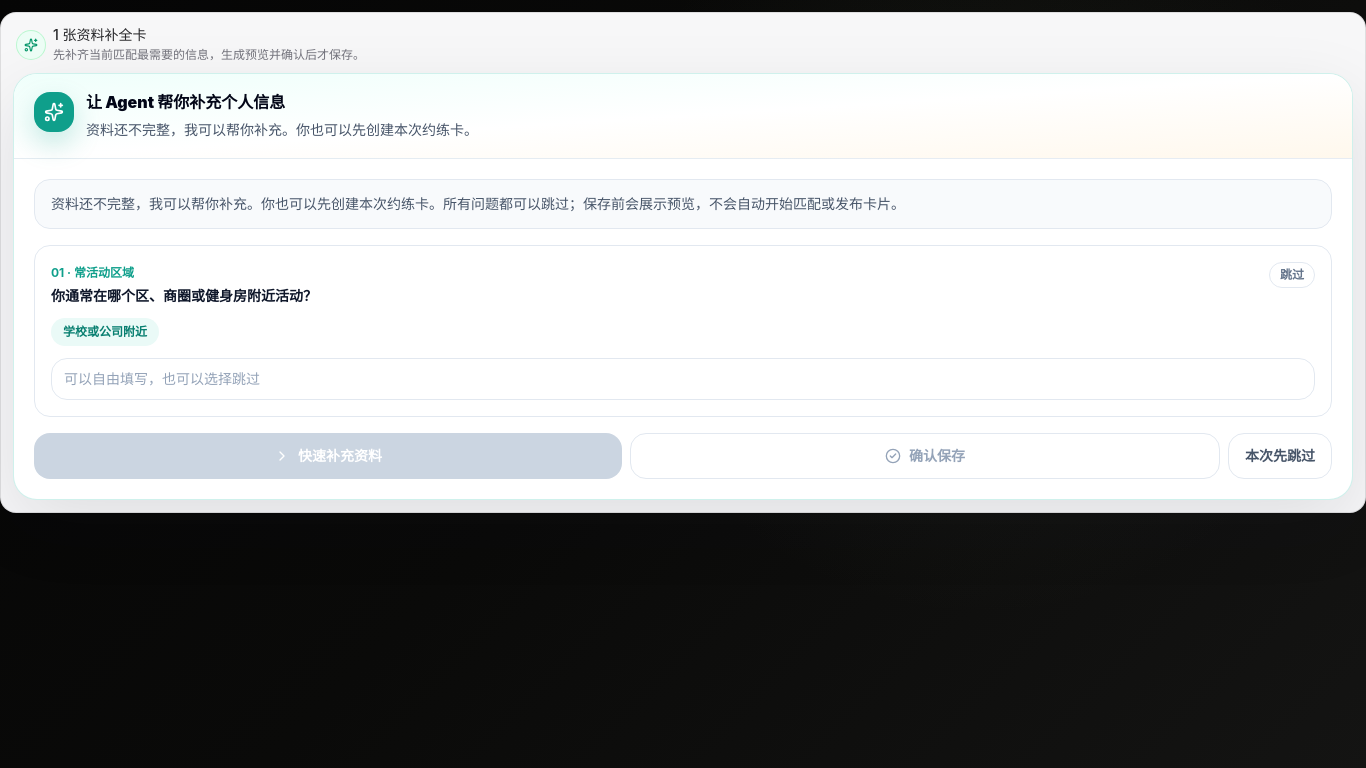
Test: assistant-ui tool fallback rendering › shows user-facing labels for remaining profile gaps after saving
Click the button "学校或公司附近" at (105, 332), box [51,318,159,346]
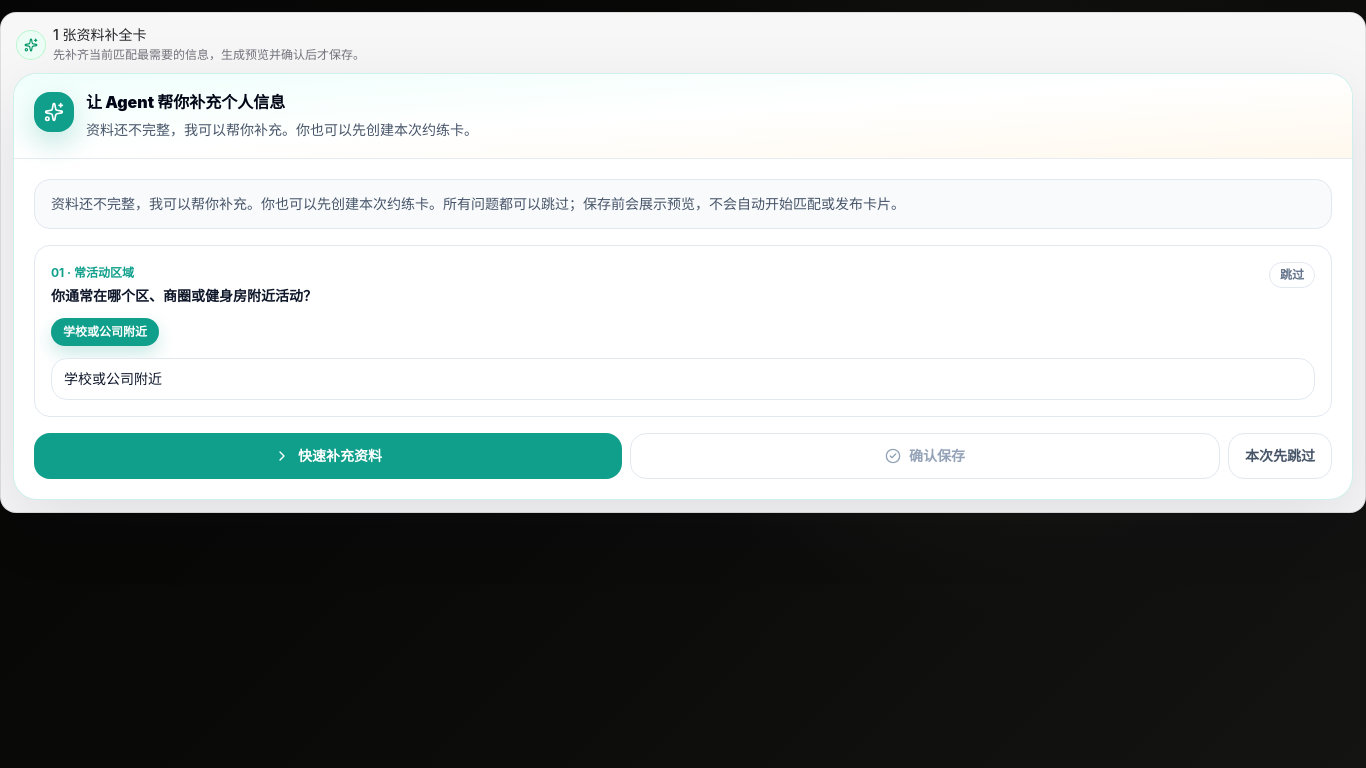
Click the button "快速补充资料" at (328, 456), box [34,433,622,479]
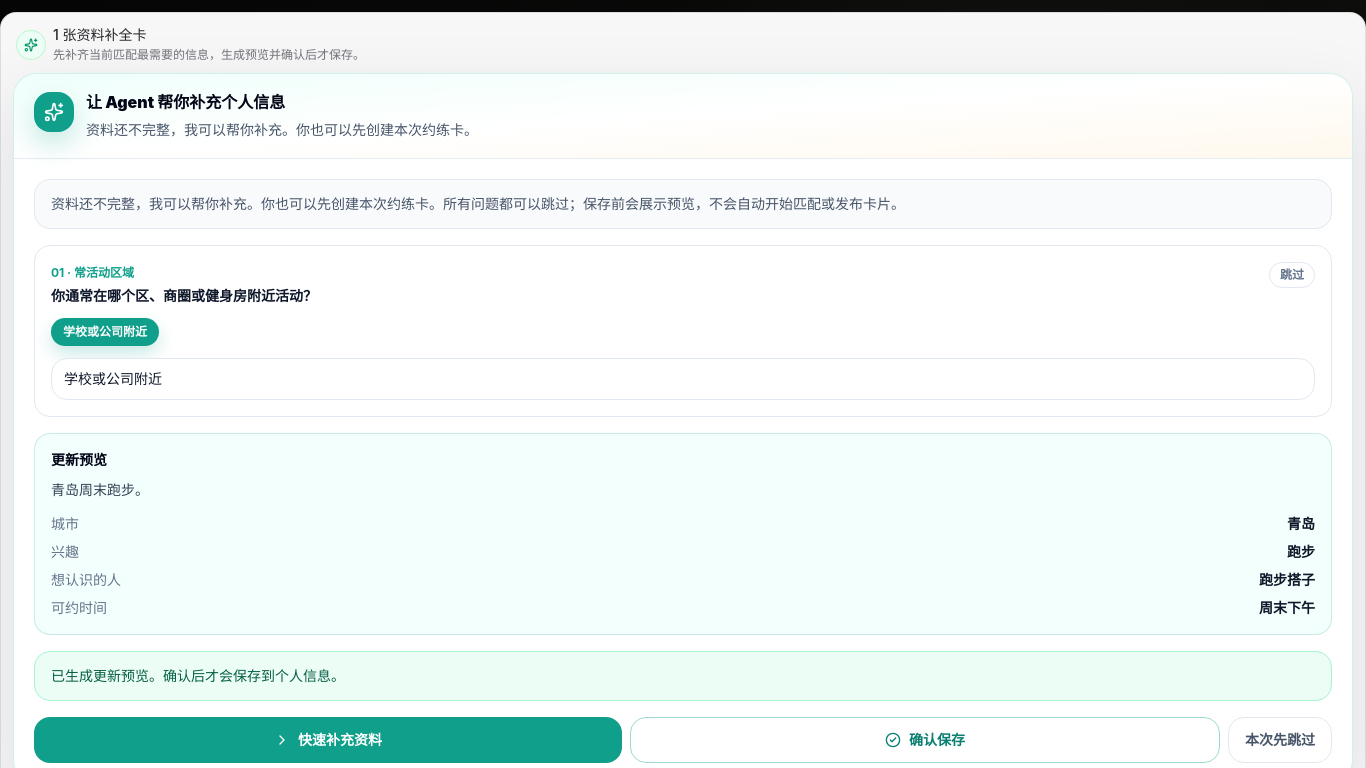
Click the button "确认保存" at (925, 740), box [630,717,1220,763]
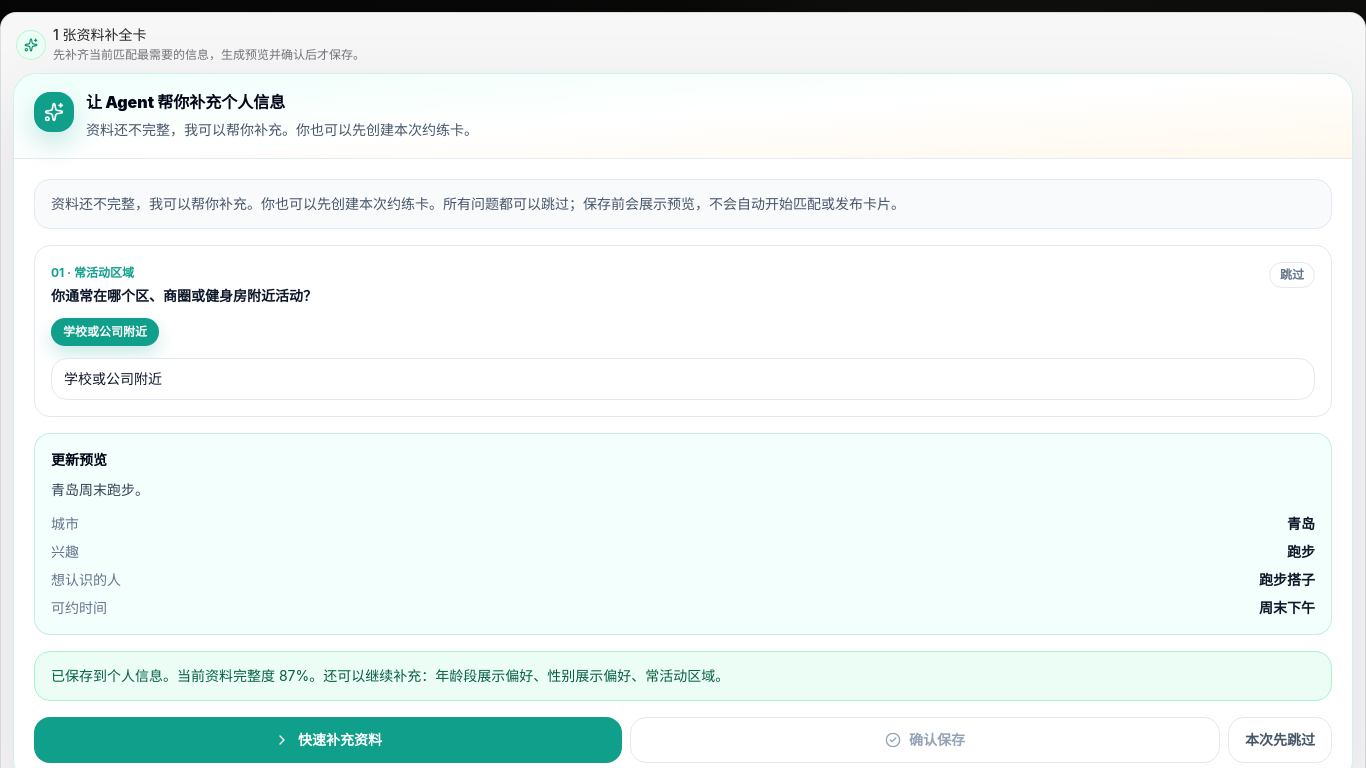
Expected: the text "01 · 常活动区域" is shown, [51,265,134,280]
Now the text "已保存到个人信息。当前资料完整度 87%。还可以继续补充：年龄段展示偏好、性别展示偏好、常活动区域。" is shown, box [34,651,1332,701]
